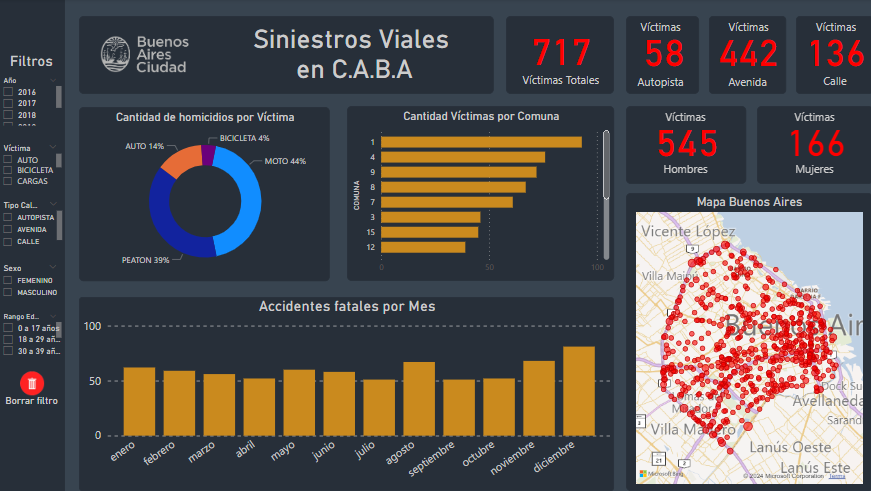

Layout of this report page (visuals, bound fields, positions):
{"tool":"powerbi","page":{"name":"Víctimas","canvas":[1280,720],"ordinal":1},"visuals":[{"type":"shape","box":[919,283.9,361.5,436.1],"z":0},{"type":"card","title":"Víctimas Totales","fields":{"Values":["victimas.Cant Victimas Total"]},"box":[743.4,24.9,158,114.1],"z":1000},{"type":"lineStackedColumnComboChart","title":"Accidentes fatales por Mes","fields":{"Category":["victimas.FECHA.Variación.Jerarquía de fechas.Mes"],"Y":["CountNonNull(victimas.VICTIMA)"]},"box":[118.5,436.1,782.9,283.9],"z":2000},{"type":"shape","box":[0,0,98,720],"z":3000},{"type":"slicer","fields":{"Values":["victimas.FECHA.Variación.Jerarquía de fechas.Año"]},"box":[0,107.8,98,82],"z":4000},{"type":"map","title":"Mapa Buenos Aires","fields":{"X":["homicidios.LONGITUD"],"Y":["homicidios.LATITUD"],"Size":["CountNonNull(victimas.VICTIMA)"]},"box":[929.3,285.4,341,428.8],"z":5000},{"type":"shape","box":[118.5,24.9,607.3,114.1],"z":6000},{"type":"image","box":[130.2,39.5,169.8,83.4],"z":7000},{"type":"slicer","fields":{"Values":["homicidios.TIPO_DE_CALLE"]},"box":[0,290.3,98.6,80.9],"z":9000},{"type":"clusteredBarChart","title":"Cantidad Víctimas por Comuna","fields":{"Y":["victimas.Cant Victimas Total"],"Category":["homicidios.COMUNA"]},"box":[510.7,156.6,390.7,256.1],"z":10000},{"type":"textbox","box":[336.6,30.7,370.2,99.5],"z":11000},{"type":"image","box":[20.5,539.5,58.5,45.4],"z":12000},{"type":"card","fields":{"Values":["victimas.Cant Victimas Total"]},"box":[919,24.9,106.8,114.1],"z":13000},{"type":"card","fields":{"Values":["victimas.Cant Victimas Total"]},"box":[1040.5,24.9,112.7,114.1],"z":14000},{"type":"card","fields":{"Values":["victimas.Cant Victimas Total"]},"box":[1167.8,24.9,112.7,114.1],"z":15000},{"type":"textbox","box":[913.2,105.4,112.7,38],"z":16000},{"type":"textbox","box":[1040.5,105.4,112.7,38],"z":17000},{"type":"textbox","box":[1173.7,103.9,102.4,38],"z":18000},{"type":"card","fields":{"Values":["victimas.Cant Victimas Total"]},"box":[919,156.6,175.6,114.1],"z":19000},{"type":"card","fields":{"Values":["victimas.Cant Victimas Total"]},"box":[1110.7,156.6,169.8,114.1],"z":20000},{"type":"textbox","box":[913.2,24.9,112.7,38],"z":21000},{"type":"textbox","box":[1042,24.9,112.7,38],"z":22000},{"type":"textbox","box":[1175.1,24.9,102.4,38],"z":23000},{"type":"textbox","box":[949.8,156.6,112.7,38],"z":24000},{"type":"textbox","box":[1138.5,156.6,112.7,38],"z":25000},{"type":"textbox","box":[949.8,232.7,112.7,38],"z":26000},{"type":"textbox","box":[1138.5,232.7,112.7,38],"z":27000},{"type":"slicer","fields":{"Values":["victimas.RANGO EDAD"]},"box":[0,453.2,98,73.2],"z":28000},{"type":"slicer","fields":{"Values":["victimas.VICTIMA"]},"box":[0,205.9,98,73.2],"z":30000},{"type":"textbox","box":[0,72.7,98,35.1],"z":31000},{"type":"slicer","fields":{"Values":["victimas.SEXO"]},"box":[0,381.5,98,80.5],"z":32000},{"type":"textbox","box":[0,573.7,98,32.2],"z":33000},{"type":"donutChart","title":"Cantidad de homicidios por Víctima","fields":{"Y":["victimas.Cant Victimas Total"],"Category":["victimas.VICTIMA"]},"box":[118.5,158,367.3,254.6],"z":34000}]}

Visuals, with their boxes in screenshot pixels (x1, y1, x2, y2), scaled from the page's 1280x720 canvas onto the 871x491 screenshot:
shape: box=[625, 194, 870, 490]
"Víctimas Totales" card: box=[506, 17, 613, 95]
"Accidentes fatales por Mes" lineStackedColumnComboChart: box=[81, 297, 613, 490]
shape: box=[0, 0, 67, 490]
slicer - victimas.FECHA.Variación.Jerarquía de fechas.Año: box=[0, 74, 67, 129]
"Mapa Buenos Aires" map: box=[632, 195, 864, 487]
shape: box=[81, 17, 494, 95]
image: box=[89, 27, 204, 84]
slicer - homicidios.TIPO_DE_CALLE: box=[0, 198, 67, 253]
"Cantidad Víctimas por Comuna" clusteredBarChart: box=[348, 107, 613, 281]
textbox: box=[229, 21, 481, 89]
image: box=[14, 368, 54, 399]
card - victimas.Cant Victimas Total: box=[625, 17, 698, 95]
card - victimas.Cant Victimas Total: box=[708, 17, 785, 95]
card - victimas.Cant Victimas Total: box=[795, 17, 870, 95]
textbox: box=[621, 72, 698, 98]
textbox: box=[708, 72, 785, 98]
textbox: box=[799, 71, 868, 97]
card - victimas.Cant Victimas Total: box=[625, 107, 745, 185]
card - victimas.Cant Victimas Total: box=[756, 107, 870, 185]
textbox: box=[621, 17, 698, 43]
textbox: box=[709, 17, 786, 43]
textbox: box=[800, 17, 869, 43]
textbox: box=[646, 107, 723, 133]
textbox: box=[775, 107, 851, 133]
textbox: box=[646, 159, 723, 185]
textbox: box=[775, 159, 851, 185]
slicer - victimas.RANGO EDAD: box=[0, 309, 67, 359]
slicer - victimas.VICTIMA: box=[0, 140, 67, 190]
textbox: box=[0, 50, 67, 74]
slicer - victimas.SEXO: box=[0, 260, 67, 315]
textbox: box=[0, 391, 67, 413]
"Cantidad de homicidios por Víctima" donutChart: box=[81, 108, 331, 281]
